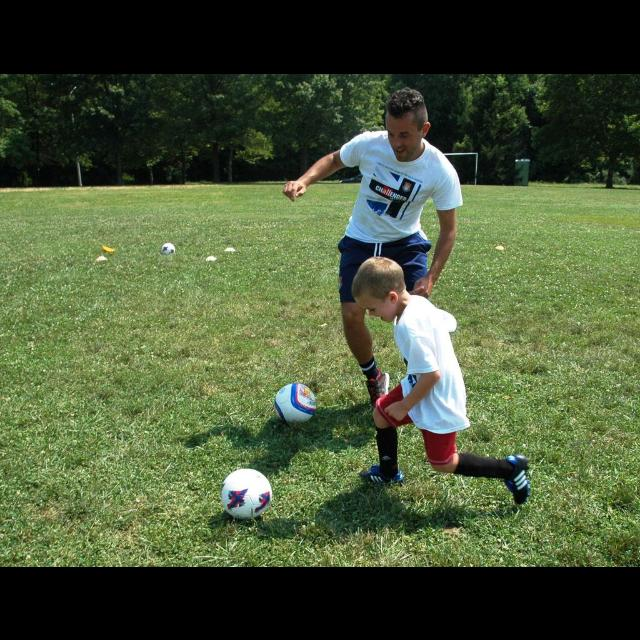Football: (218, 466, 274, 516), (271, 378, 317, 424), (159, 240, 175, 252)
